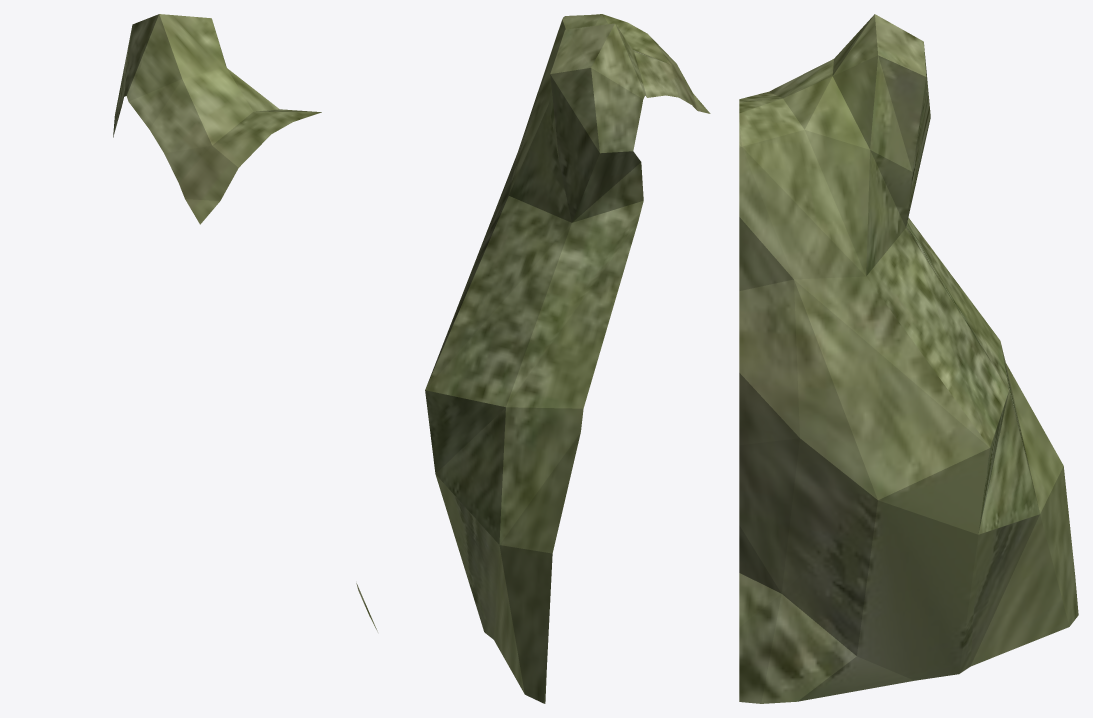
The picture shows the model from 3 angles, left to right: view 1: azimuth 30°, elevation 25°; view 2: azimuth 150°, elevation 25°; view 3: azimuth 270°, elevation 25°; orthographic projection. The views are drawn at different scales.
Size of the model in its own units: 0.8155 by 2.29 by 1.14.
1 material, 1 textured.
